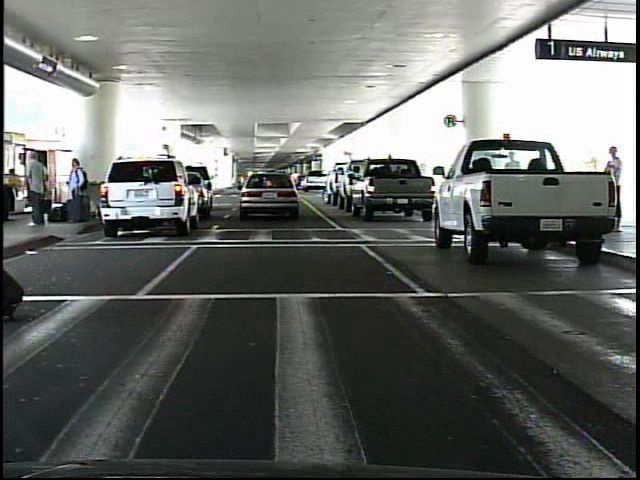person: (595, 143, 627, 231), (23, 150, 50, 227), (64, 156, 87, 225)
